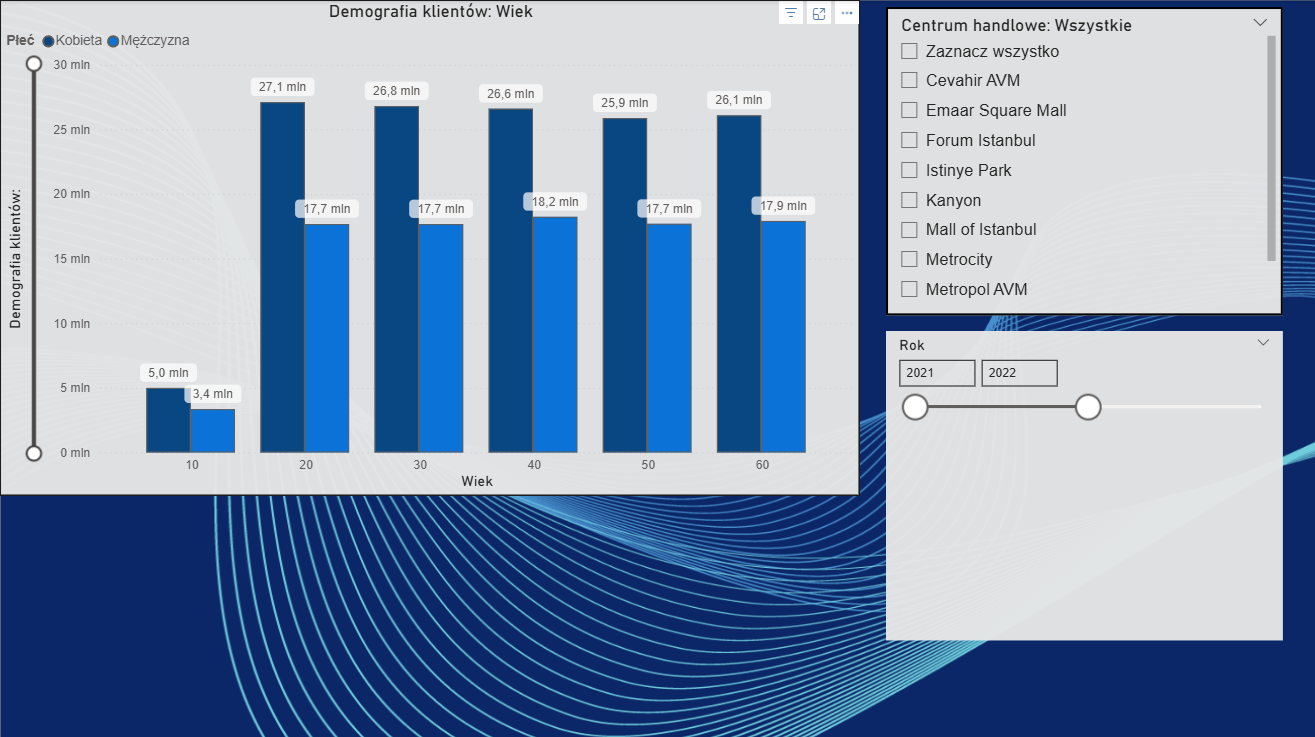

This screenshot's page, from the dashboard's own definition file:
{"tool":"powerbi","page":{"name":"W jakim wieku są klienci?","canvas":[1280,720],"ordinal":1},"visuals":[{"type":"lineClusteredColumnComboChart","title":"Demografia klientów: Wiek","fields":{"Y":["Sum(customer_shopping_data.Przychód)"],"Series":["customer_shopping_data.gender"],"Category":["customer_shopping_data.age (pliki binarne)"]},"box":[0,0,836.5,482.4],"z":0},{"type":"slicer","fields":{"Values":["customer_shopping_data.invoice_date.Odmiana.Hierarchia dat.Rok"]},"box":[861.8,321.9,386.1,300.5],"z":1000},{"type":"slicer","fields":{"Values":["customer_shopping_data.shopping_mall"]},"box":[861.8,6.8,386.1,299.6],"z":2001}]}

Visuals, with their boxes in screenshot pixels (x1, y1, x2, y2), scaled from the page's 1280x720 canvas onto the 1315x737 screenshot:
"Demografia klientów: Wiek" lineClusteredColumnComboChart: 0 0 859 494
slicer - customer_shopping_data.invoice_date.Odmiana.Hierarchia dat.Rok: 885 330 1282 637
slicer - customer_shopping_data.shopping_mall: 885 7 1282 314
